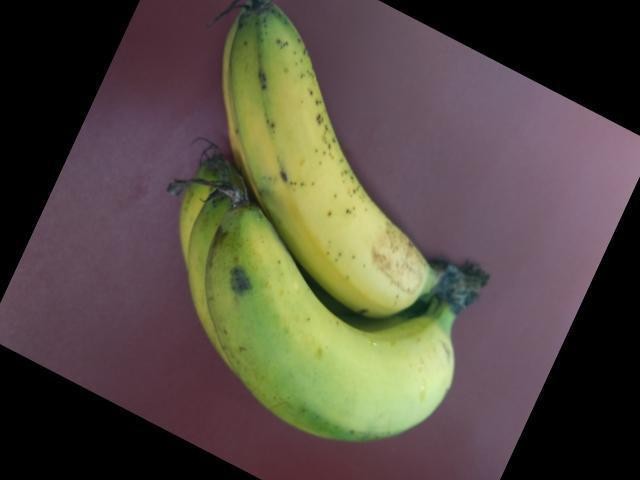freshripe: (172, 224, 467, 452)
ripe: (207, 12, 429, 326)
